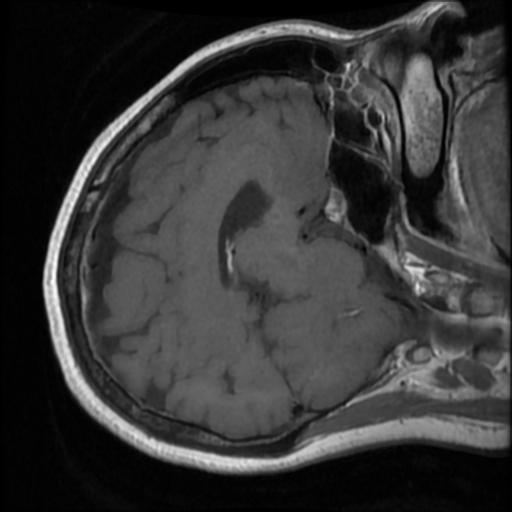pituitary tumour: (325, 188, 347, 223)
